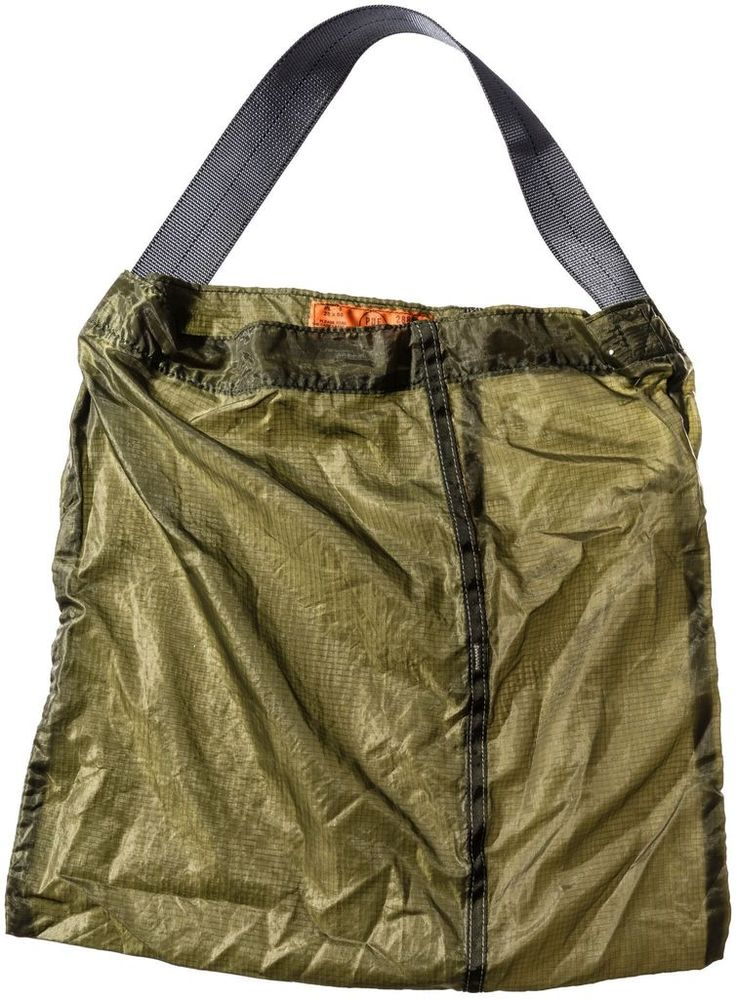nylon: (4, 2, 732, 991)
